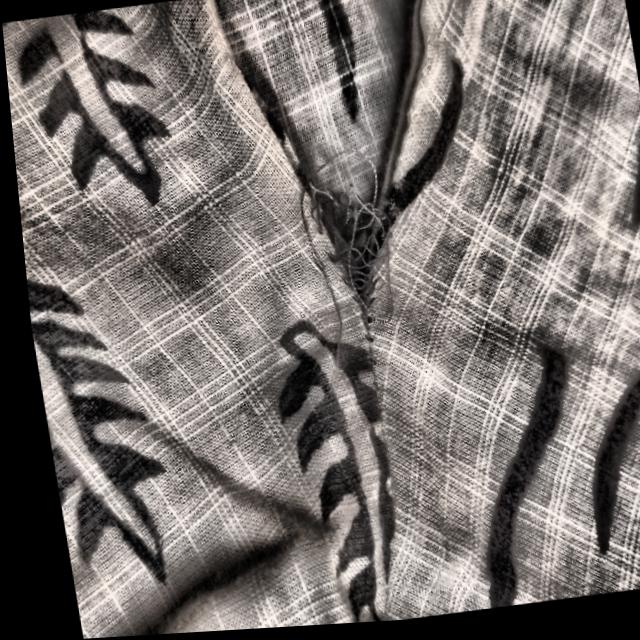Stitch: (275, 131, 435, 395)
